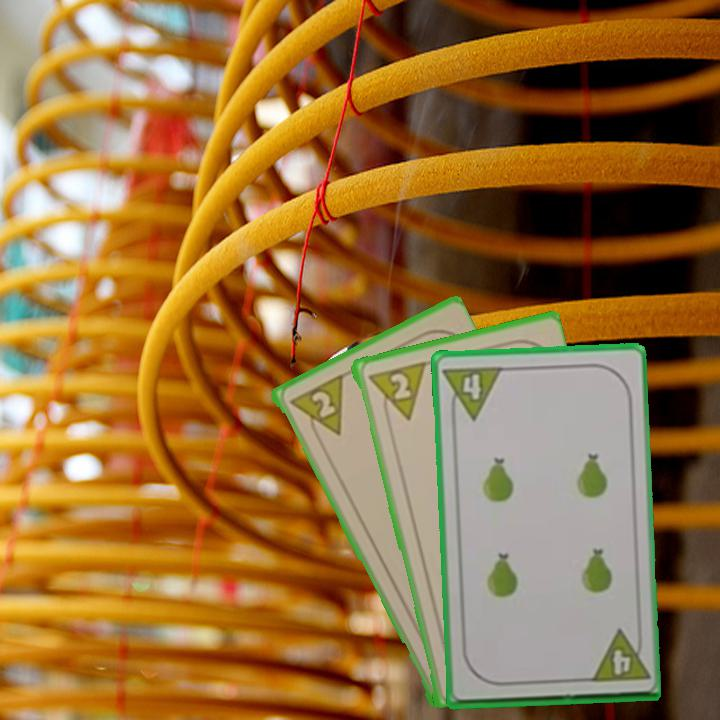2p: (285, 371, 346, 446), (364, 358, 427, 426)
4p: (440, 362, 505, 423), (585, 626, 651, 685)
